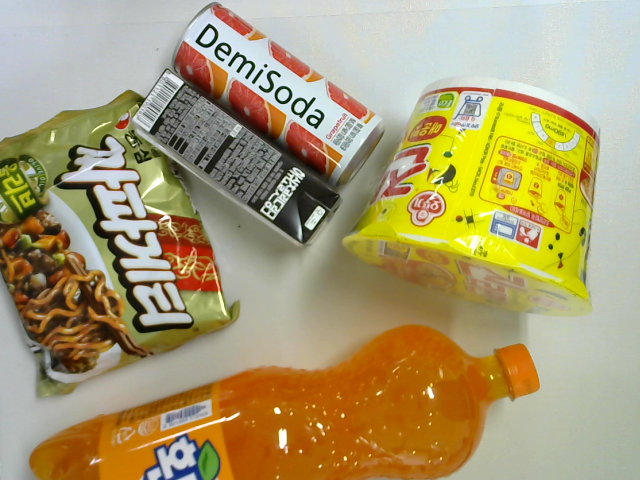Demisoda_Grapefruit_Can_250ml: (172, 2, 386, 192)
Hush_Choco_Drink: (130, 68, 344, 252)
Hwanta_Orange_1.5L: (29, 325, 543, 480)
Jinlamyeon_Hot_Taste_Large_Cup: (340, 76, 605, 314)
Olive_Chapaghetti: (1, 86, 240, 403)
